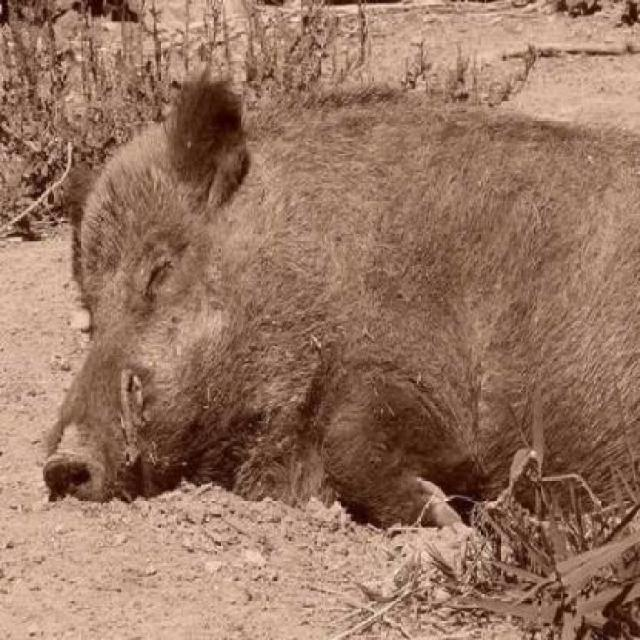pig: (19, 51, 638, 639)
